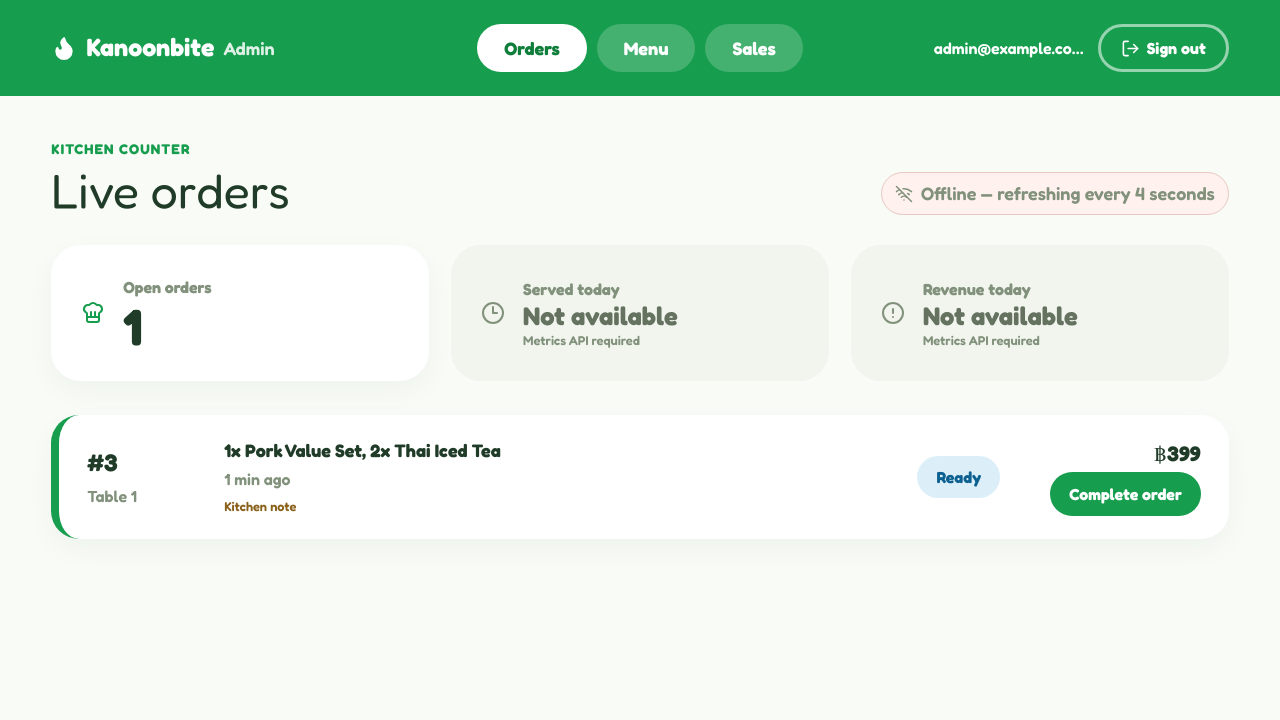
Test: admin backoffice › keeps an order visible after it is completed and after the immediate refetch
Step 1. Click the button "Complete order" → click(1126, 494), box [1050,472,1201,516]
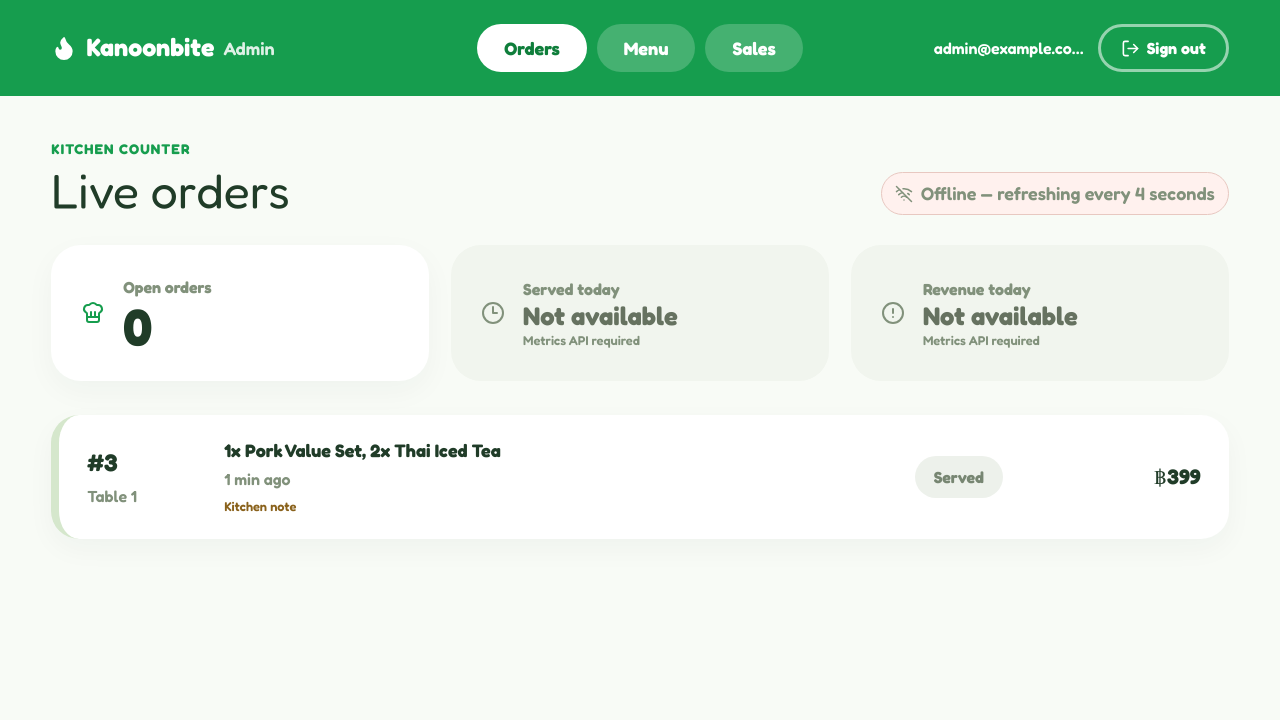
Expected: the text "#3" is shown, [87,448,118,478]
Expected: the text "Served" is shown, [915,456,1003,498]
